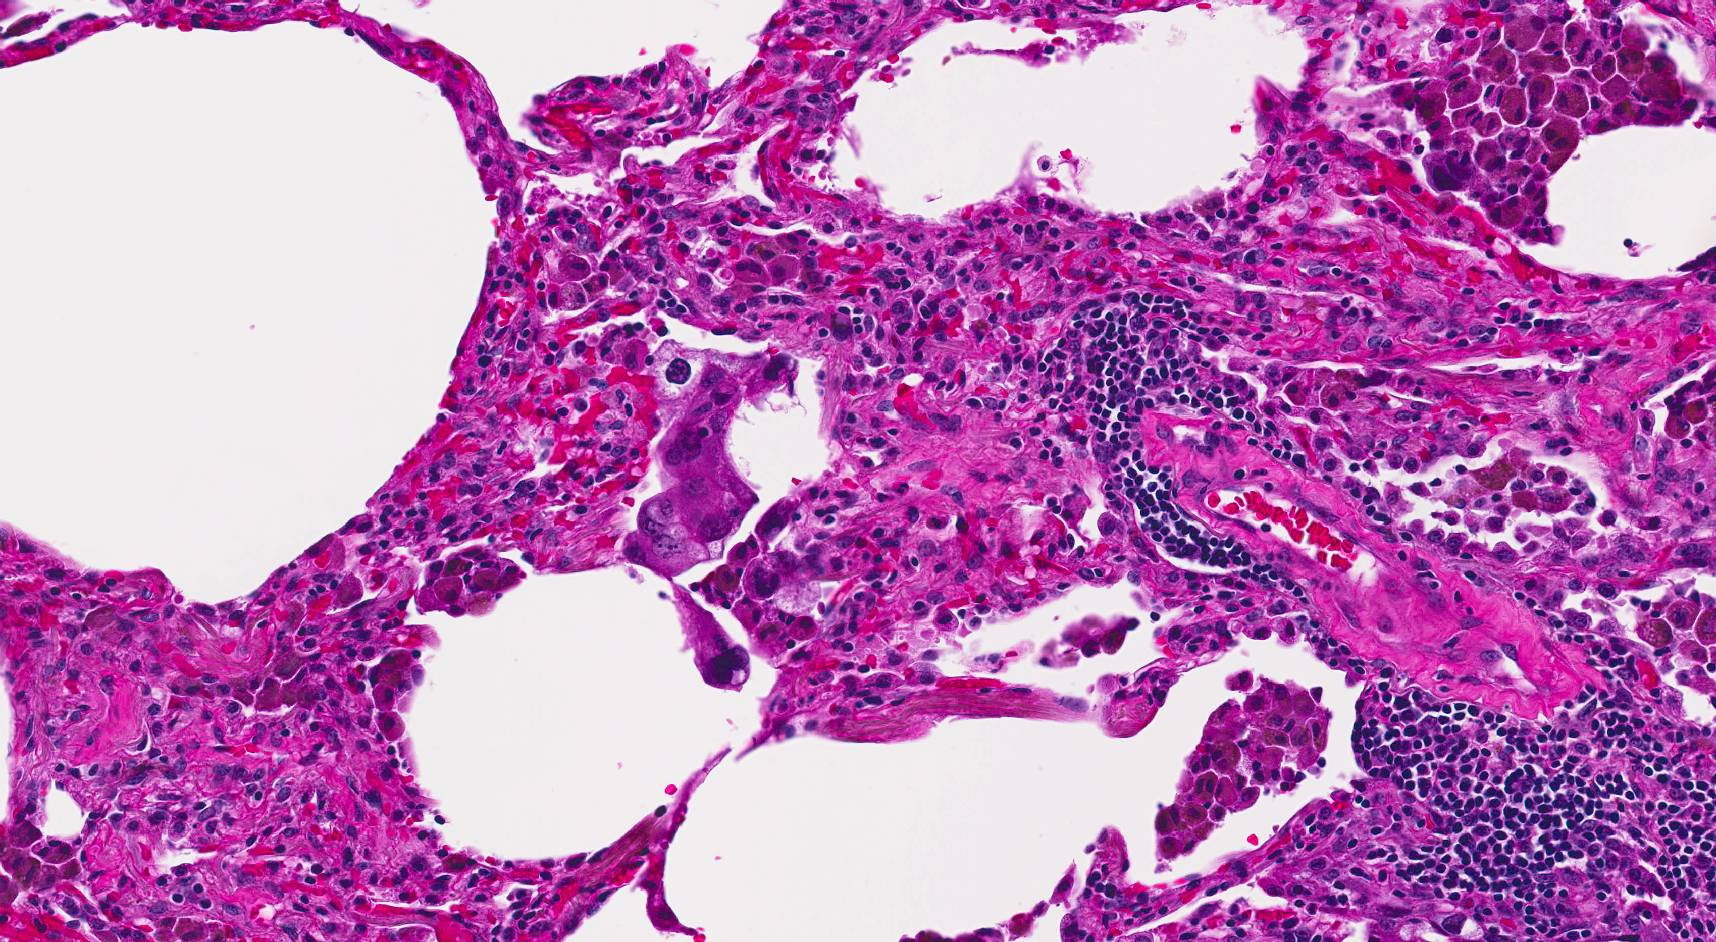stas: (621, 352, 809, 582), (665, 589, 760, 695)
